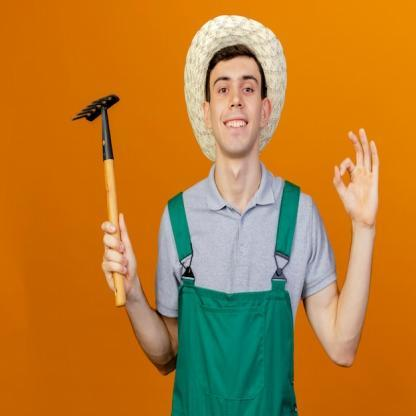ok: (332, 122, 386, 231)
